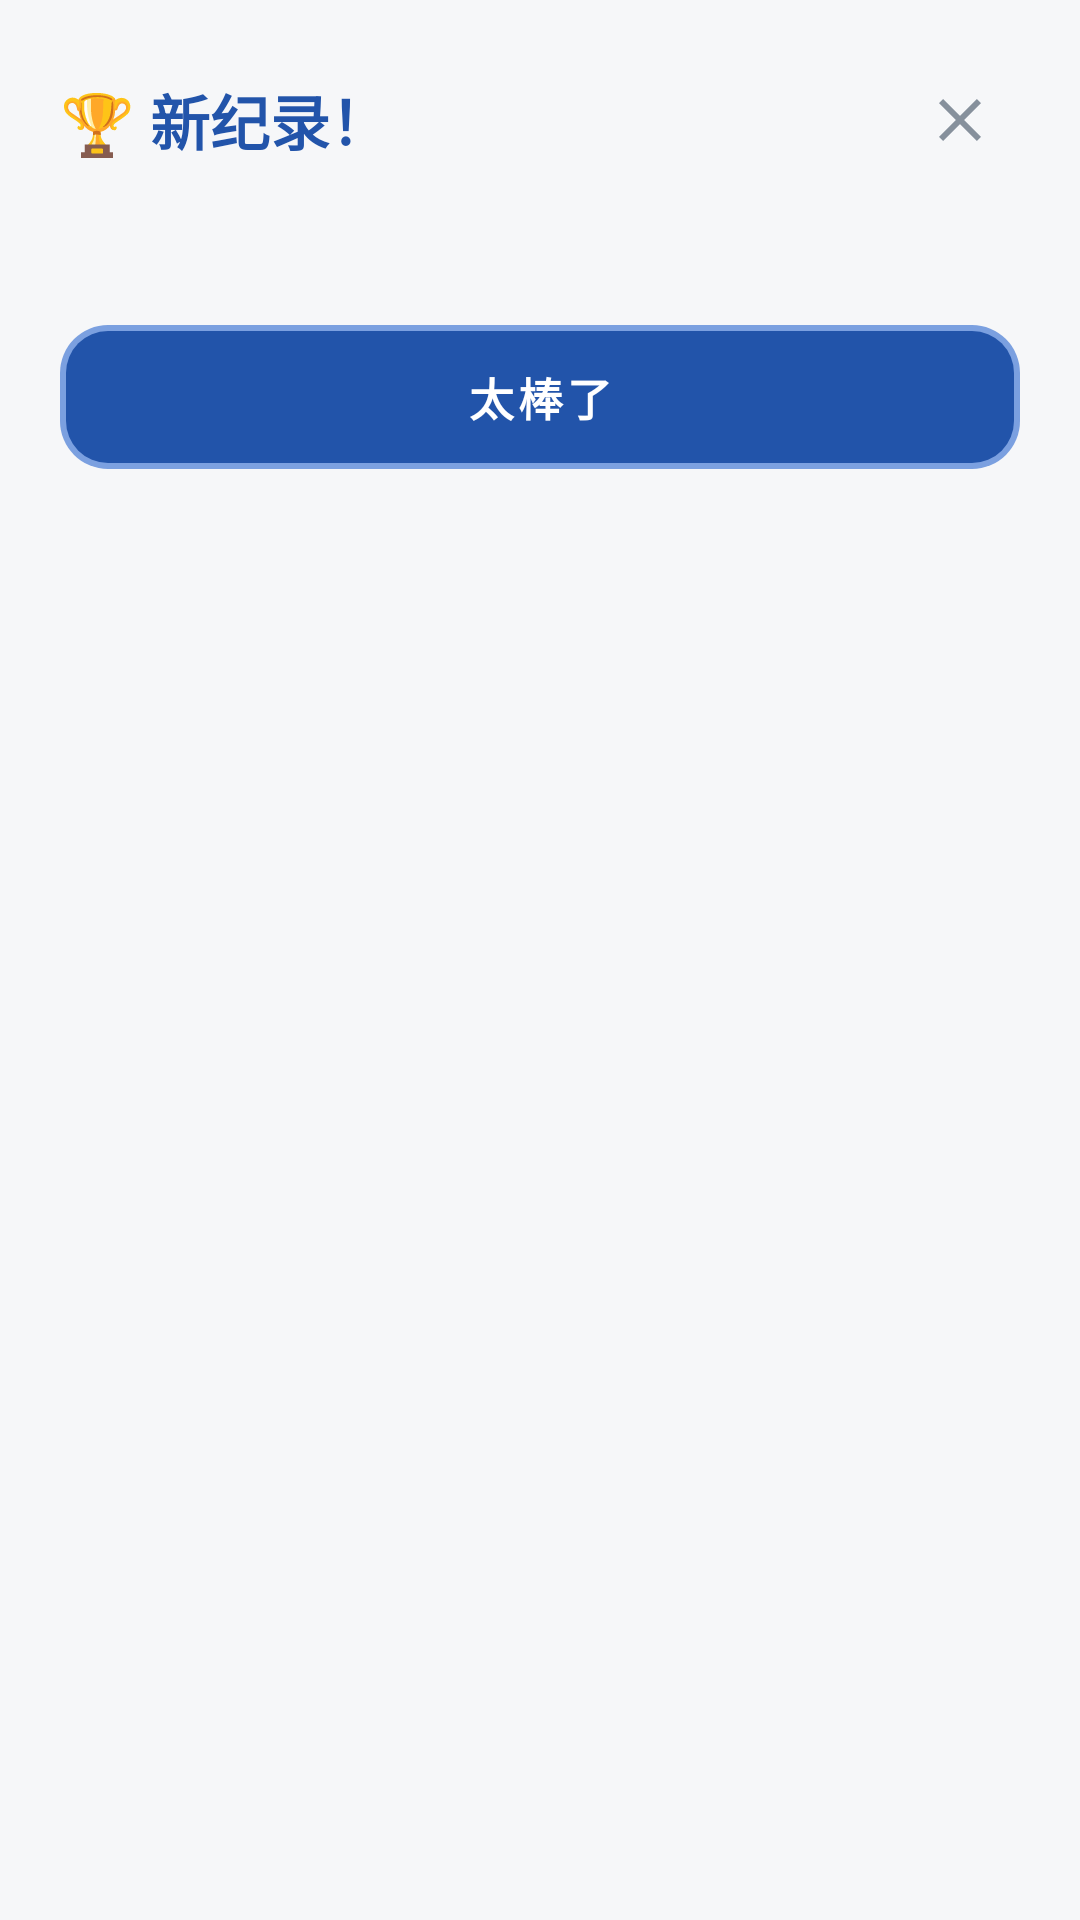

Where icons sit on this 1080x1920 app screen, as bbox(x1, y1, x2, y2):
关闭: bbox(939, 99, 981, 141)
